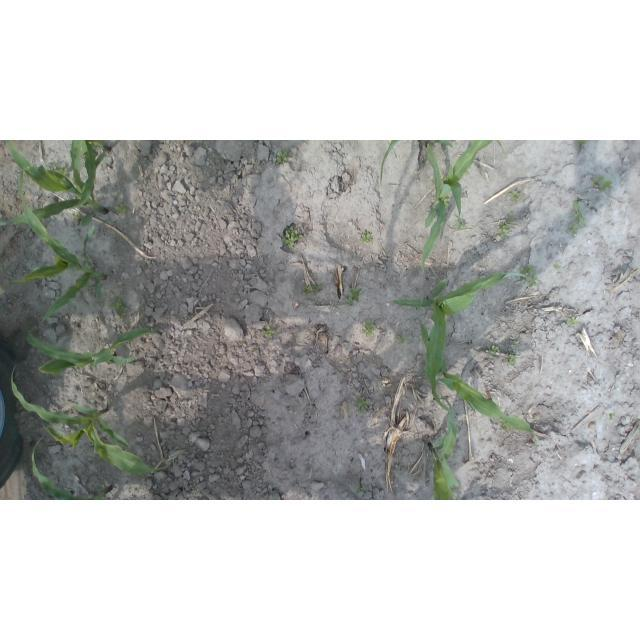Maize: (391, 271, 538, 416), (11, 363, 190, 477), (9, 164, 108, 328), (420, 323, 537, 433), (420, 141, 498, 278), (0, 141, 112, 230), (25, 325, 164, 377), (29, 433, 116, 500), (425, 397, 463, 500), (379, 141, 454, 188)
Weeds: (569, 199, 585, 234), (282, 228, 303, 250), (499, 210, 514, 236), (355, 396, 373, 415), (111, 298, 127, 317), (591, 177, 614, 190), (51, 163, 70, 177), (521, 268, 537, 284), (347, 288, 361, 304), (510, 341, 519, 365), (364, 320, 377, 336), (306, 283, 323, 294), (360, 230, 373, 244), (566, 315, 579, 328), (276, 150, 288, 164), (509, 190, 523, 201), (261, 324, 273, 336), (114, 204, 126, 215), (457, 219, 468, 230), (575, 141, 589, 148), (489, 346, 499, 355), (397, 335, 406, 343), (607, 412, 615, 421), (554, 264, 559, 270)
